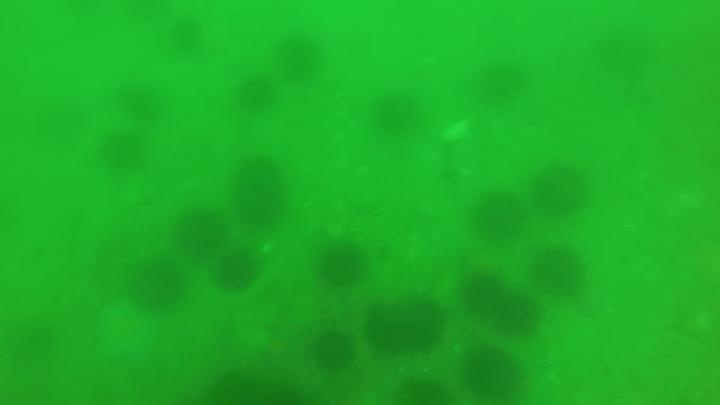echinus: (231, 157, 288, 230), (205, 367, 306, 404), (461, 347, 525, 402), (531, 163, 591, 219), (128, 258, 187, 313), (391, 294, 445, 350), (530, 245, 587, 298), (173, 208, 229, 261), (3, 318, 60, 369), (472, 191, 527, 242), (594, 27, 653, 70), (362, 298, 406, 355), (371, 91, 424, 138), (475, 61, 528, 107), (274, 34, 323, 83), (316, 243, 368, 288), (35, 100, 86, 145), (492, 293, 542, 338), (213, 249, 261, 293), (311, 329, 357, 374), (98, 130, 146, 173), (459, 273, 506, 316), (114, 82, 164, 122), (234, 74, 277, 114), (396, 376, 452, 404), (168, 17, 204, 54)
starfish: (94, 300, 164, 367)
